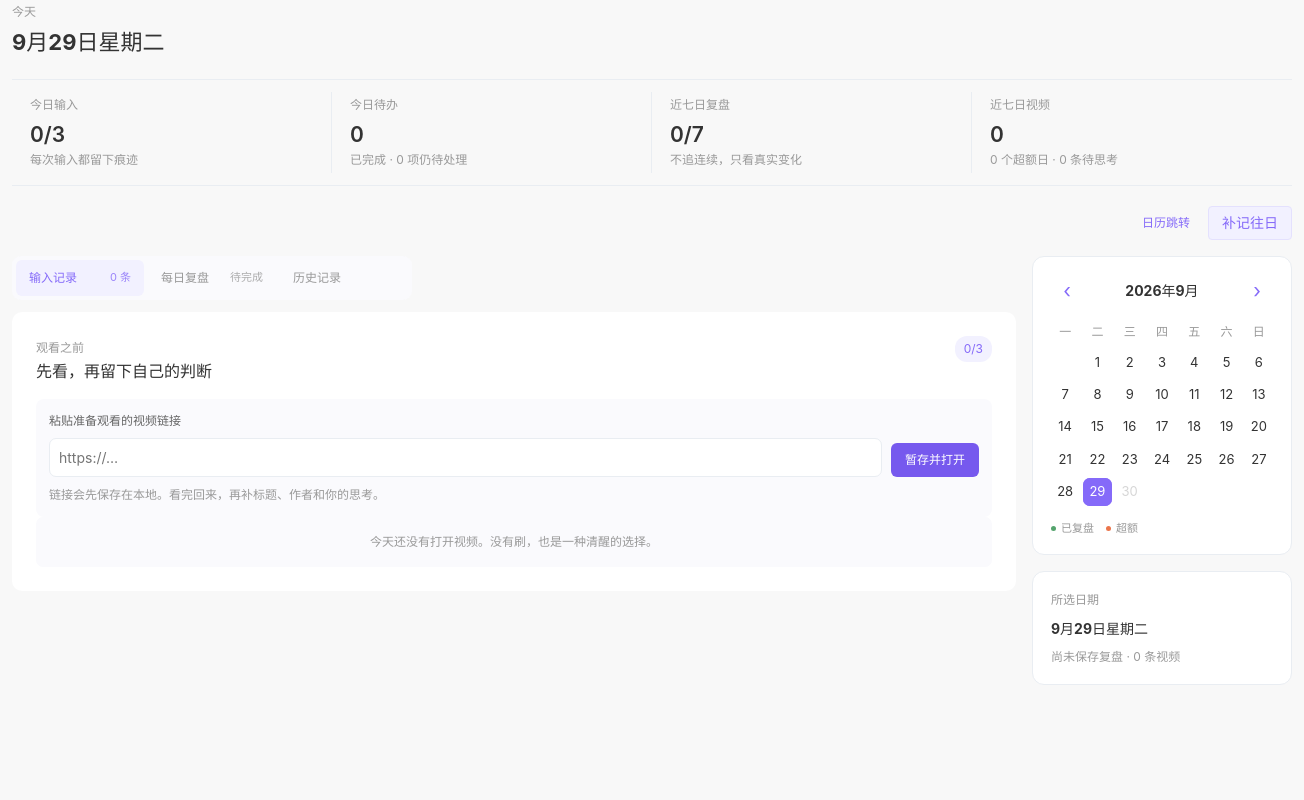
Test: FlowView › does not leave the editor when retaining its draft fails
The width and height of the screenshot is (1304, 800).
Click the tab with id "flow-tab-history".
click(344, 278)  # box [280, 260, 408, 296]
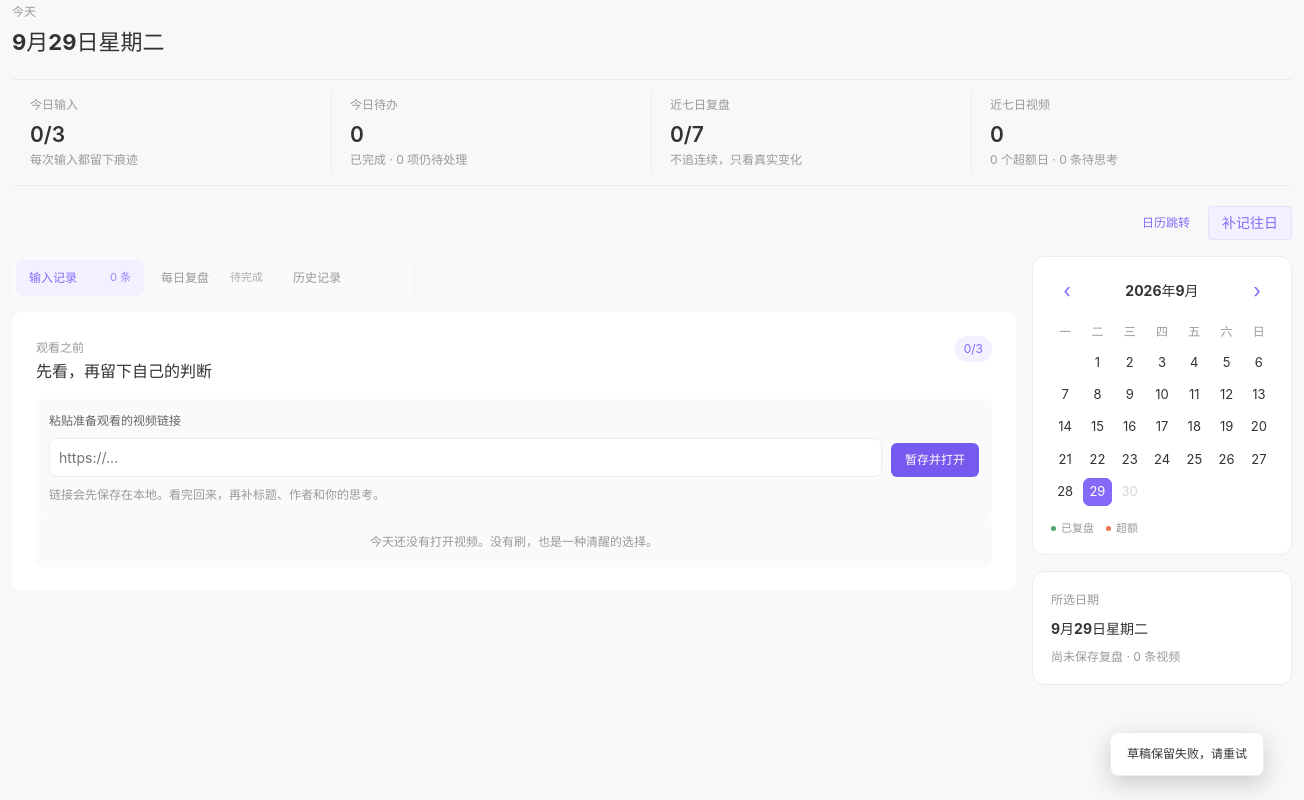
Expected: the text "草稿保留失败" is shown, [1127, 746, 1247, 761]
